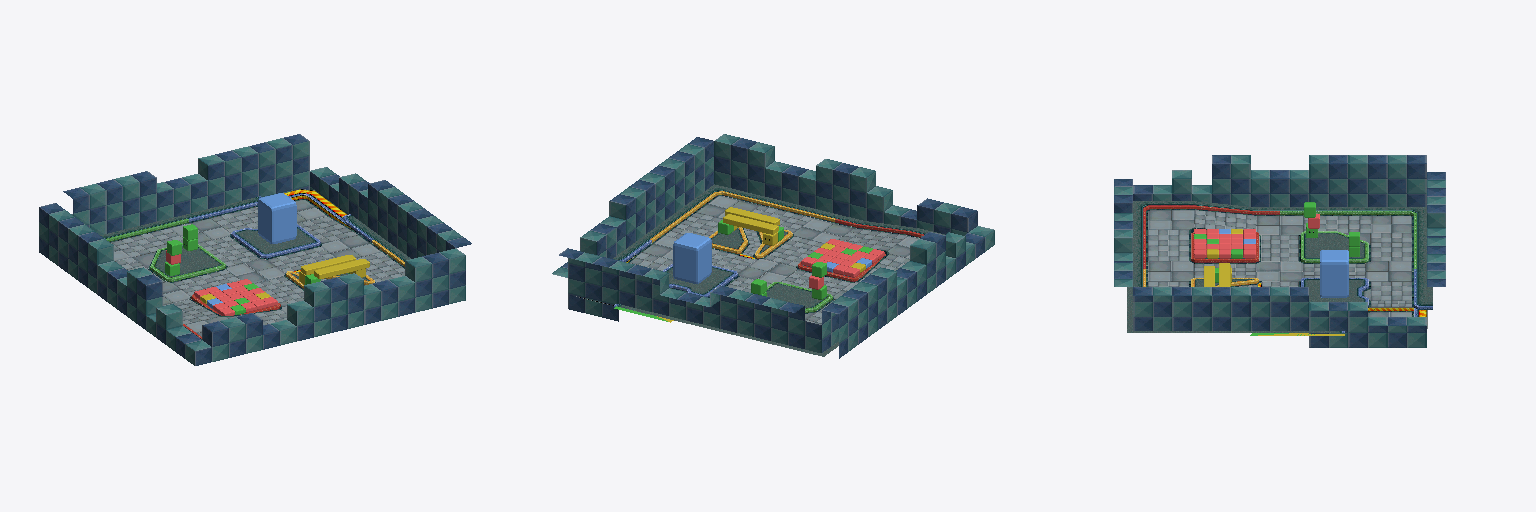
The picture shows the model from 3 angles: view 1: azimuth 30°, elevation 25°; view 2: azimuth 150°, elevation 25°; view 3: azimuth 270°, elevation 25°; orthographic projection.
Visible parts, largest first — view 1: Group2, Group3, Group1, Group; view 2: Group2, Group3, Group1, Group; view 3: Group2, Group3, Group1, Group.
Part boxes in pixels (left/top/right/bottom): Group2: left=39, top=134, right=471, bottom=365; Group3: left=111, top=200, right=404, bottom=336; Group1: left=100, top=189, right=410, bottom=339; Group: left=165, top=193, right=369, bottom=315; Group2: left=552, top=134, right=994, bottom=358; Group3: left=630, top=196, right=919, bottom=324; Group1: left=576, top=184, right=944, bottom=356; Group: left=614, top=207, right=884, bottom=322; Group2: left=1114, top=155, right=1445, bottom=347; Group3: left=1148, top=210, right=1411, bottom=316; Group1: left=1127, top=201, right=1432, bottom=332; Group: left=1194, top=202, right=1359, bottom=335.
Bounding box in the file's own units: 17000 × 3442 × 17000.
4 materials, 4 textured.